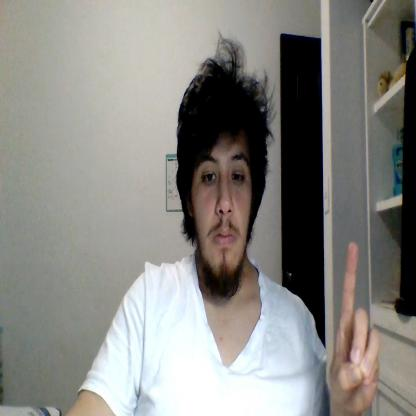D: (328, 242, 380, 415)
